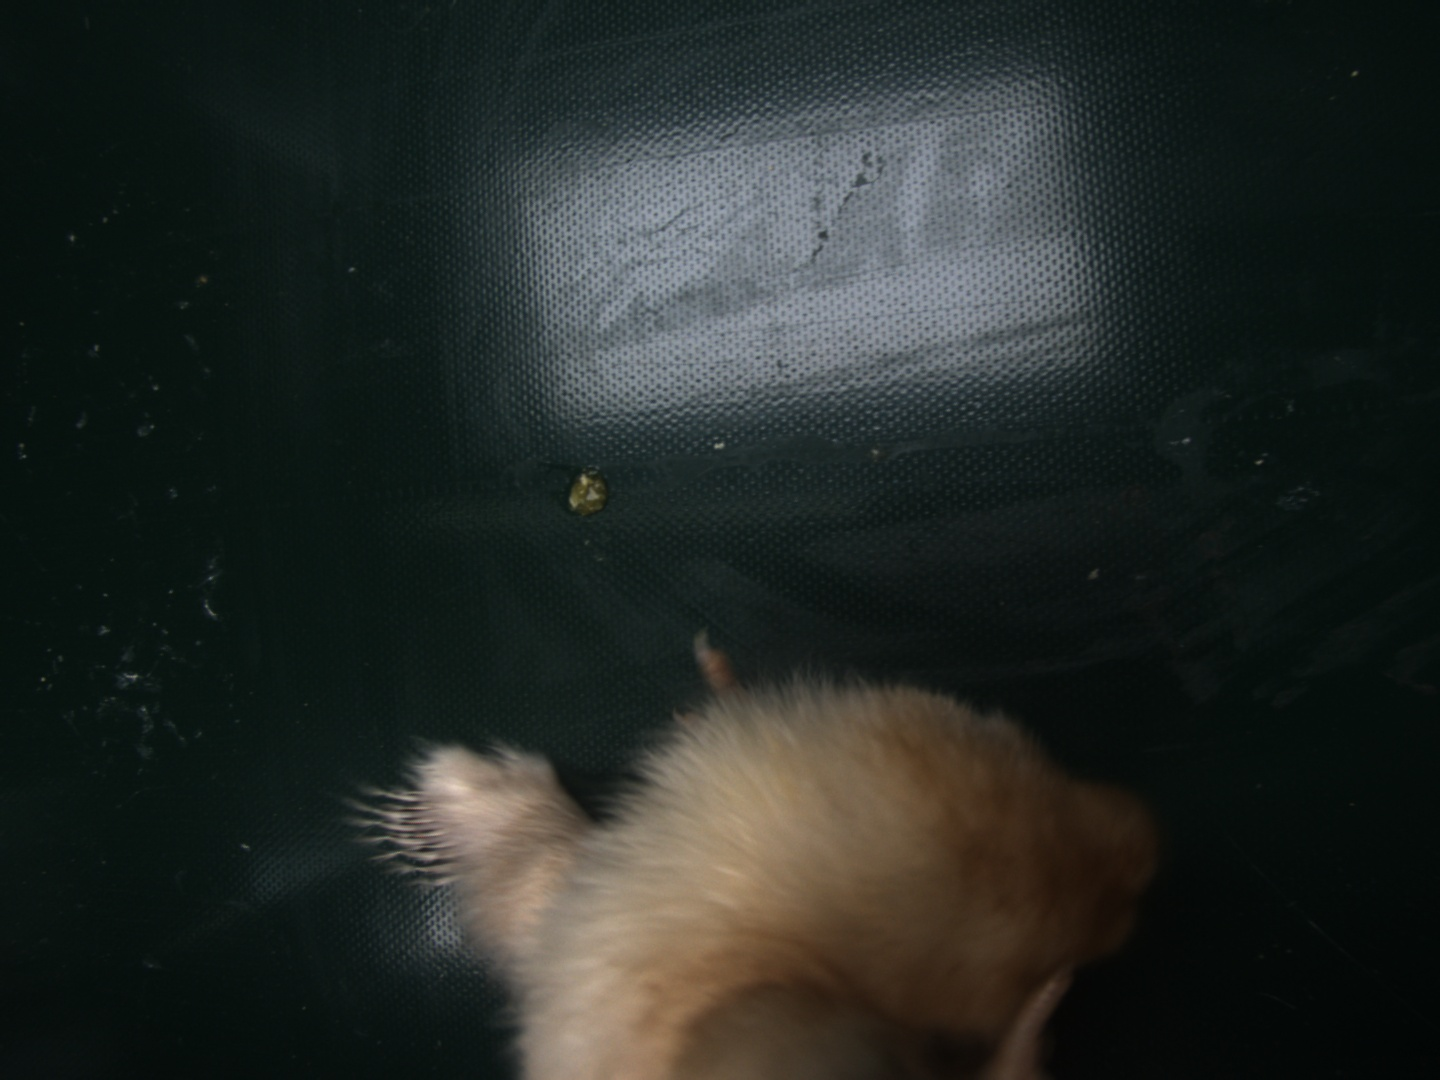female: (347, 781, 463, 888)
